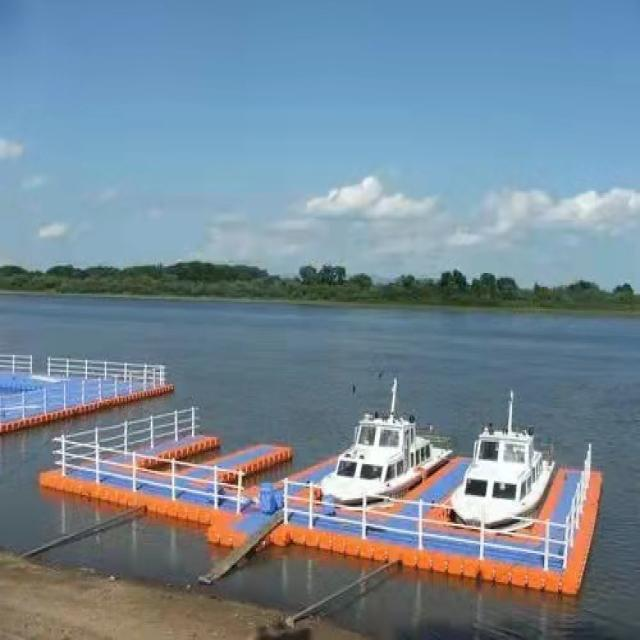houseboat: (316, 397, 439, 501), (444, 410, 554, 516)
